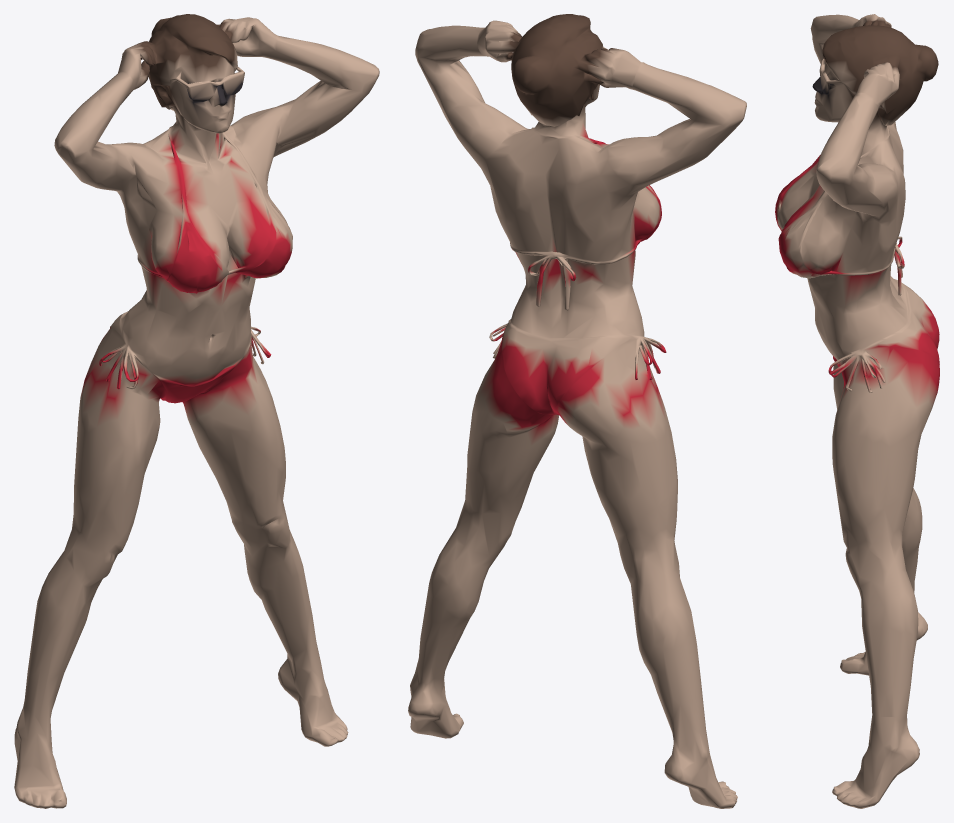
File: estatua_lo.glb
3 renders of one model, left to right at view 1: azimuth 30°, elevation 25°; view 2: azimuth 150°, elevation 25°; view 3: azimuth 270°, elevation 25°, orthographic. The views are drawn at different scales.
Visible parts, largest first — view 1: estatua; view 2: estatua; view 3: estatua.
Part boxes in pixels (x1=…): estatua: x1=14, y1=14, x2=379, y2=808; estatua: x1=408, y1=14, x2=746, y2=808; estatua: x1=775, y1=14, x2=939, y2=808.
Size of the model in its own units: 0.8036 by 1.7 by 0.3563.
